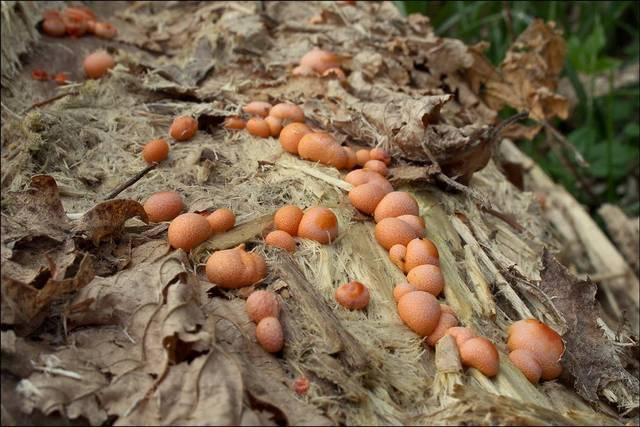Non-edible Mushroom: (131, 96, 568, 385), (505, 317, 566, 381), (74, 196, 149, 248), (204, 243, 267, 289), (396, 289, 441, 336), (166, 211, 211, 251), (458, 335, 499, 377), (296, 205, 338, 244), (245, 289, 281, 322), (334, 279, 370, 310), (254, 315, 284, 352), (82, 50, 114, 79), (168, 114, 198, 141), (141, 138, 169, 164)
